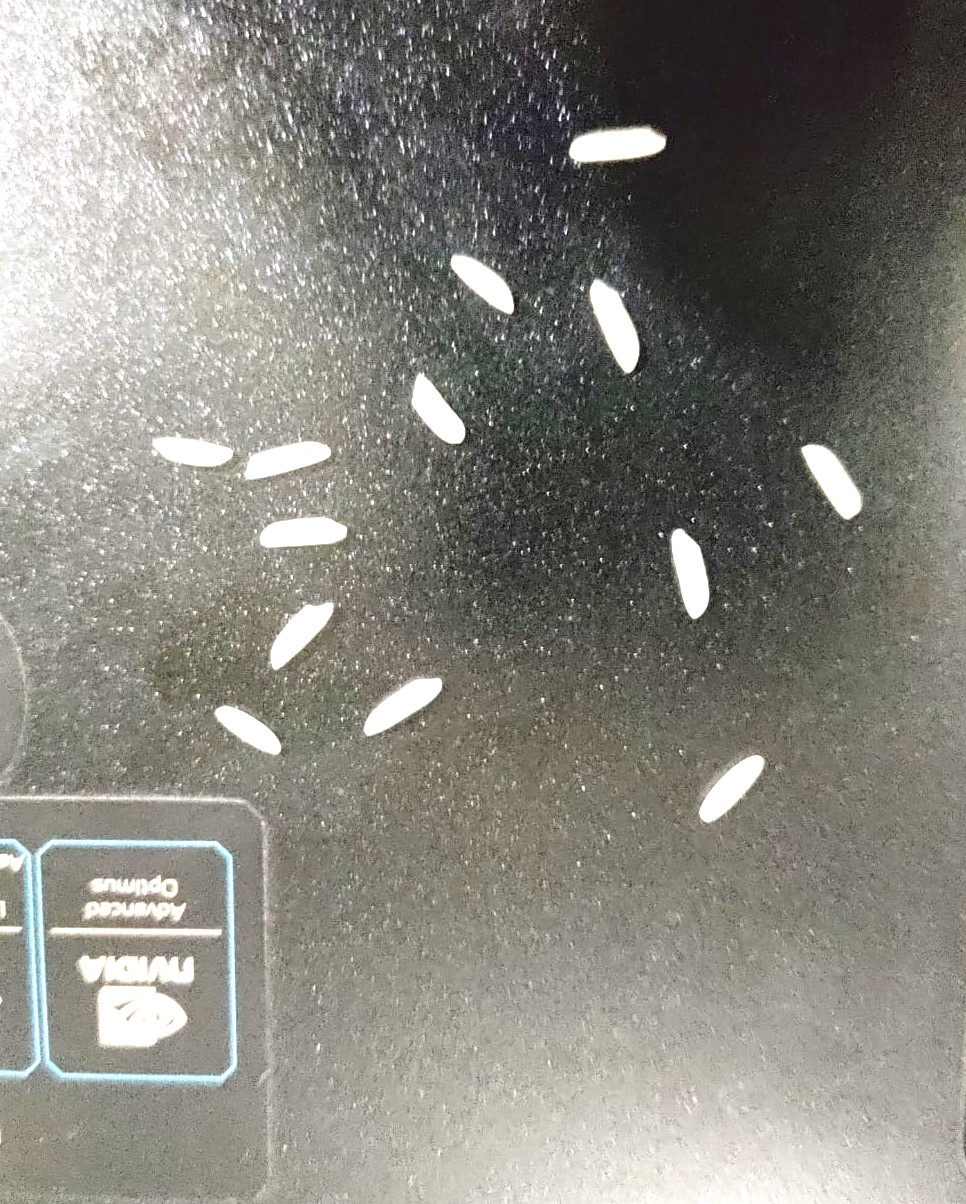broken_grain: (412, 360, 472, 457)
complete_grain: (562, 108, 674, 179), (695, 742, 777, 834), (359, 668, 458, 744), (261, 596, 345, 682), (793, 434, 869, 527), (443, 242, 521, 317), (586, 276, 643, 377), (249, 515, 361, 562), (667, 516, 716, 623), (245, 439, 343, 487), (148, 427, 238, 477), (210, 698, 287, 756)
